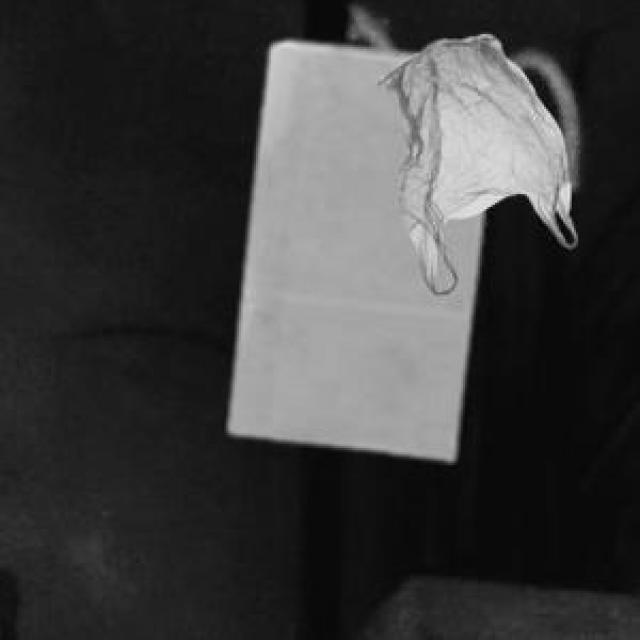paper: (224, 38, 478, 457)
